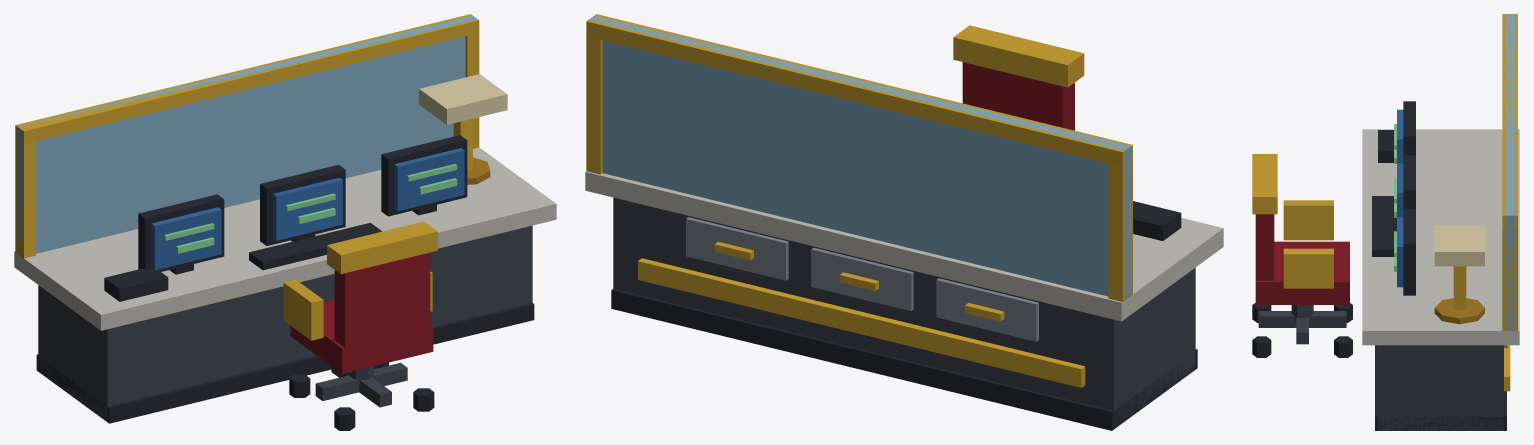
Rendered from Decor_GoldVault_Desk.fbx.
The picture shows the model from 3 angles, left to right: view 1: azimuth 30°, elevation 25°; view 2: azimuth 150°, elevation 25°; view 3: azimuth 270°, elevation 25°; orthographic projection. The views are drawn at different scales.
Visible parts, largest first — view 1: Desk_Body; view 2: Desk_Body; view 3: Desk_Body.
Part boxes in pixels (x1,y1,x2,y2): Desk_Body: (14, 14, 556, 430); Desk_Body: (585, 14, 1223, 430); Desk_Body: (1252, 14, 1519, 430).
Bounding box in the file's own units: 15 × 7.7 × 8.4.
